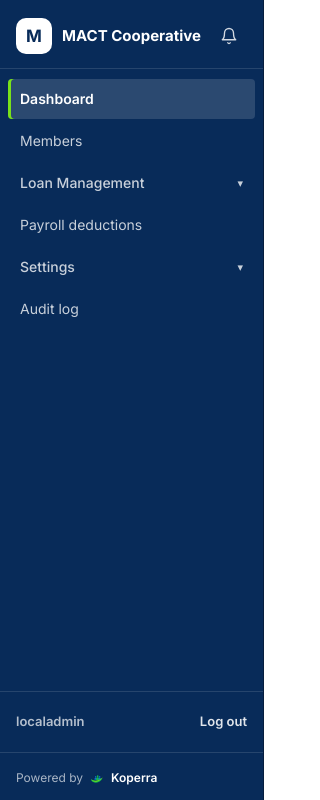
Test: AdminNav › closes one submenu when another opens
This screenshot has width=320, height=800.
Click the button "Loan Management ▾".
click(132, 183)  # box [8,163,255,203]
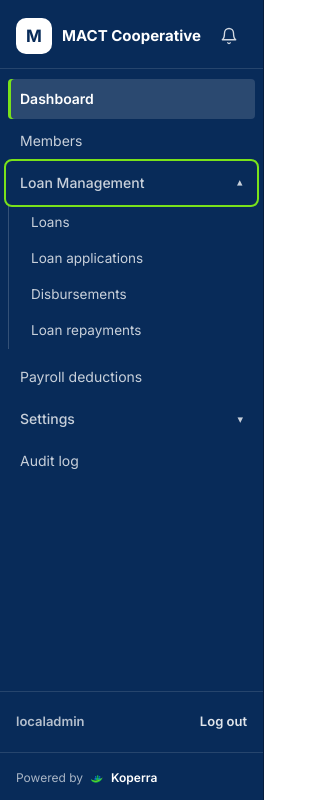
Click the button "Settings ▾".
click(132, 419)  # box [8,399,255,439]
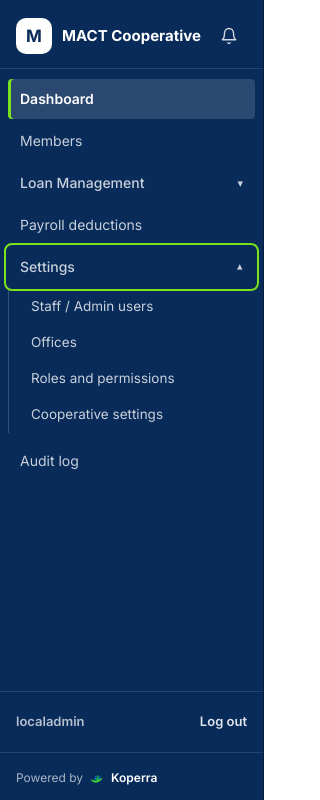
Now the button "Settings ▾" is expanded, box [8,247,255,287]
